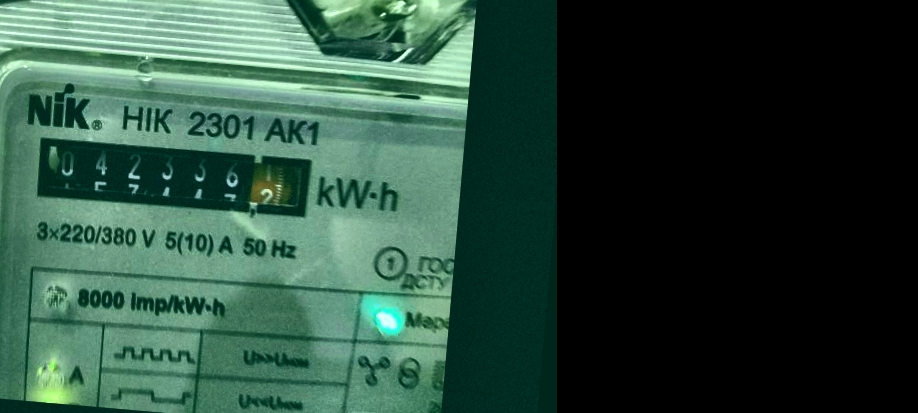0: (57, 148, 75, 177)
1: (260, 159, 274, 182)
2: (125, 149, 143, 180), (256, 185, 274, 204)
3: (189, 152, 207, 183), (157, 151, 174, 180)
4: (91, 145, 110, 176)
6: (222, 157, 242, 188)
screen: (22, 122, 324, 228)
